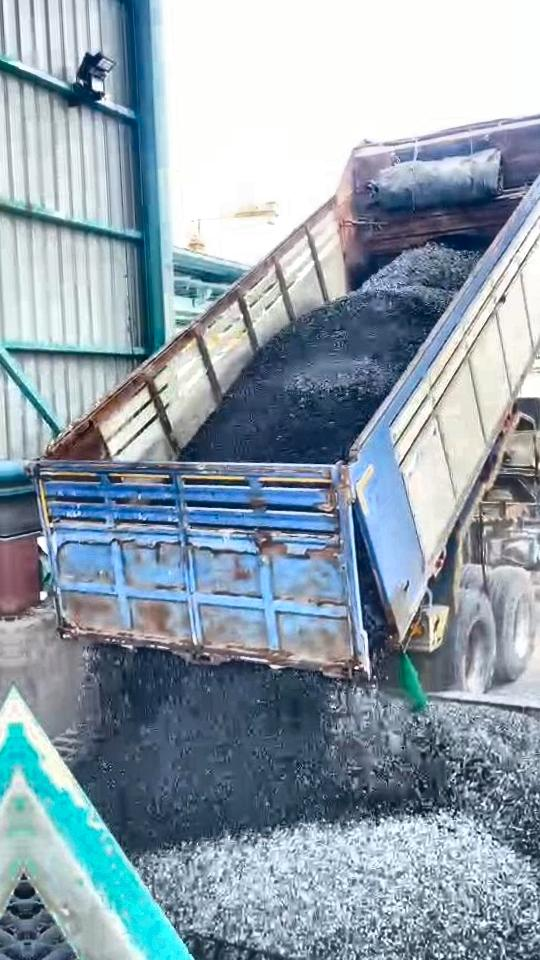gravel: (74, 650, 540, 960), (182, 242, 480, 463), (358, 540, 384, 658)
